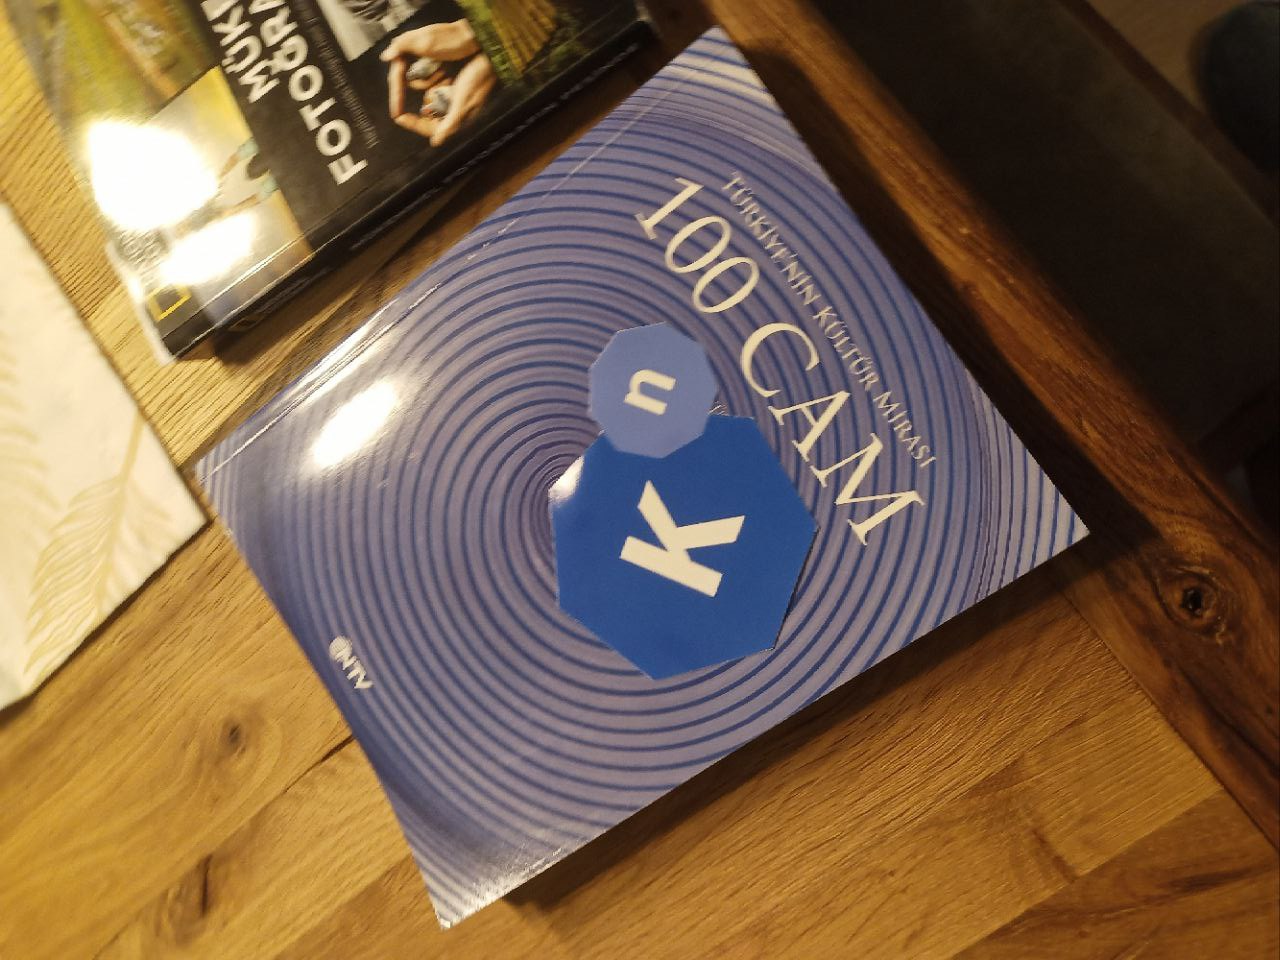knative: (544, 321, 820, 682)
